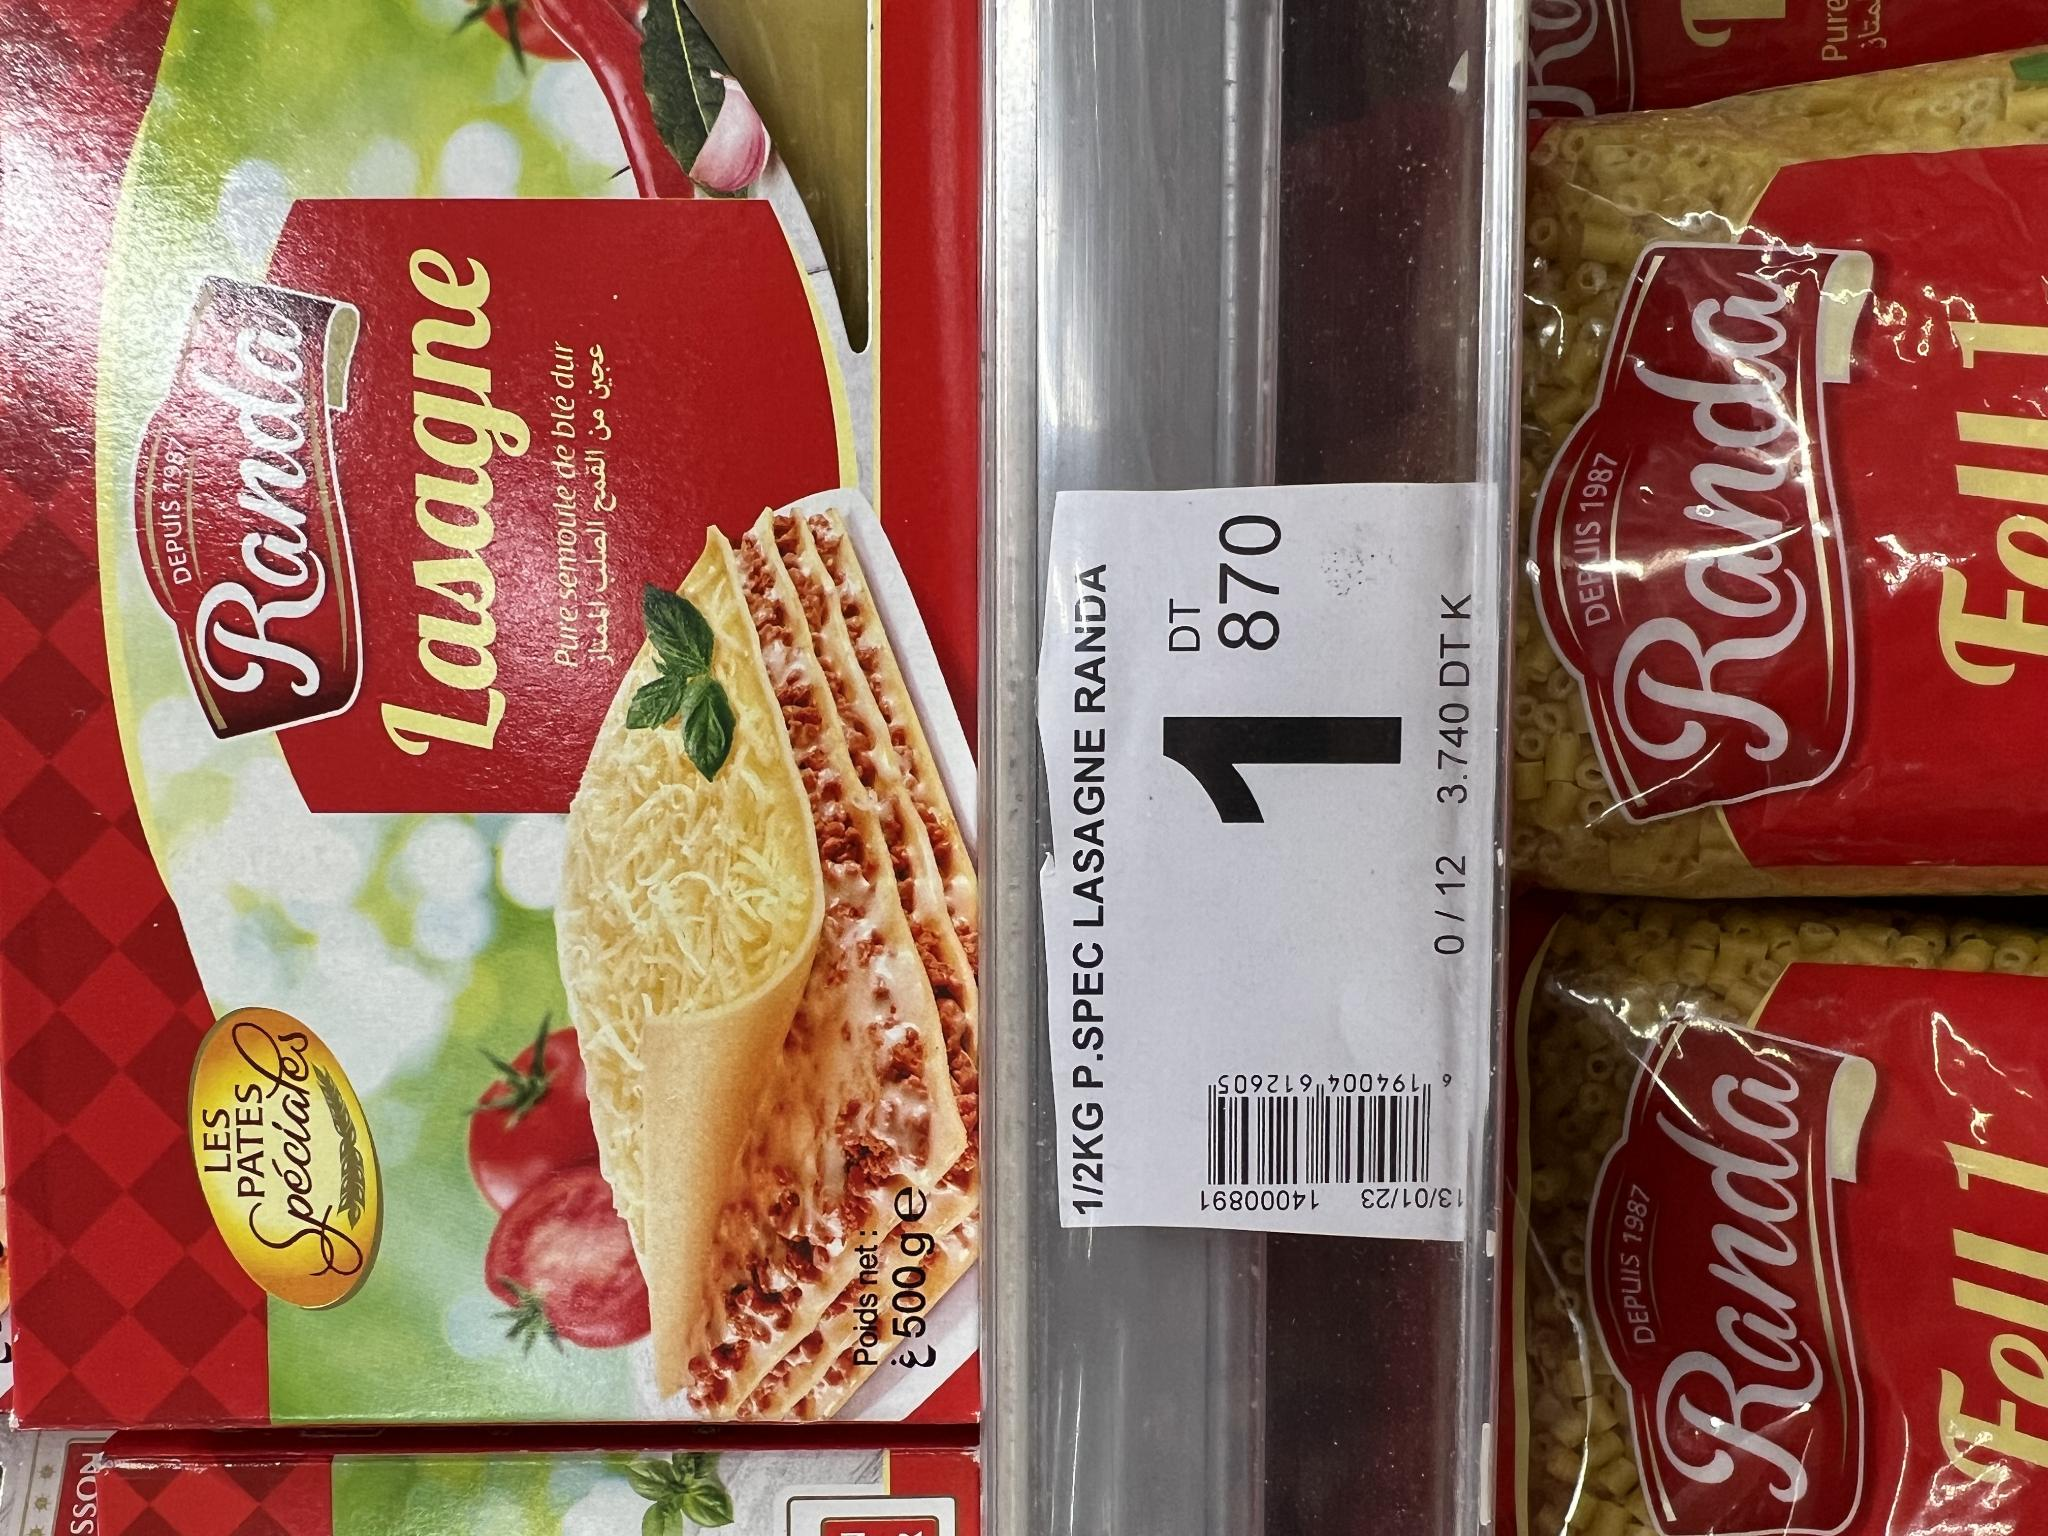Fell: (1516, 95, 2048, 886), (1500, 886, 2045, 1536)
lasagne: (0, 0, 1003, 1439)
